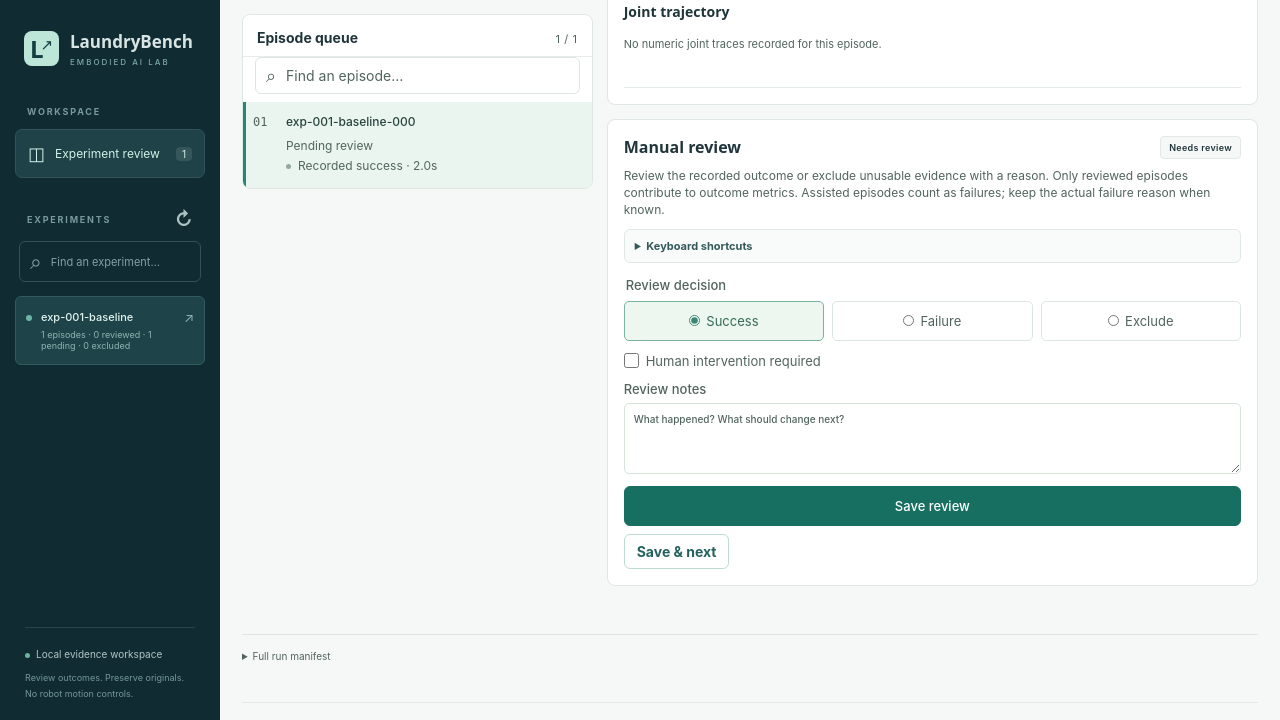
Test case: saves interventions using the backend failure contract
The image size is (1280, 720).
(page scrolled)
Check: the heading "Manual review" is shown, box [624,136,741,158]
Click the checkbox labelled "Human intervention required" at (631, 361), box [624,353,639,368]
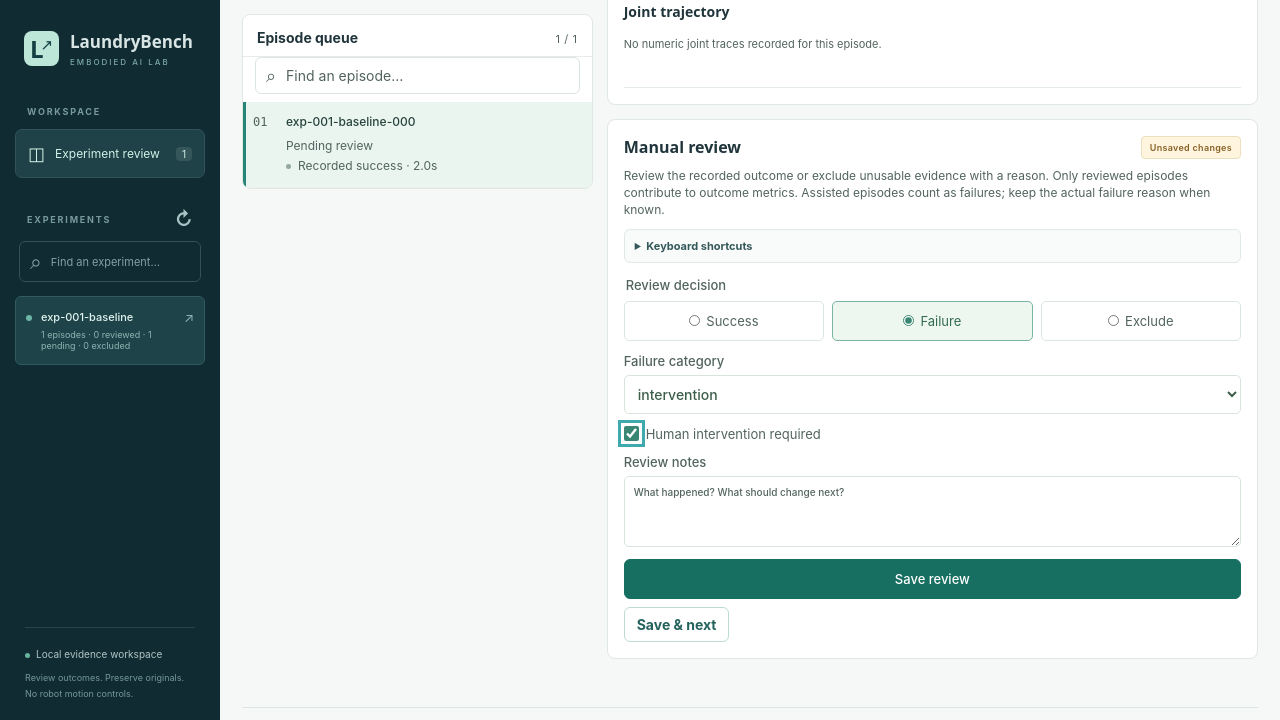
Check: the radio button labelled "Failure" is checked, box [903,315,914,326]
Check: the dropdown labelled "Failure category" shows "intervention", box [624,375,1241,414]
Click the button "Save review" at (932, 579), box [624,559,1241,599]
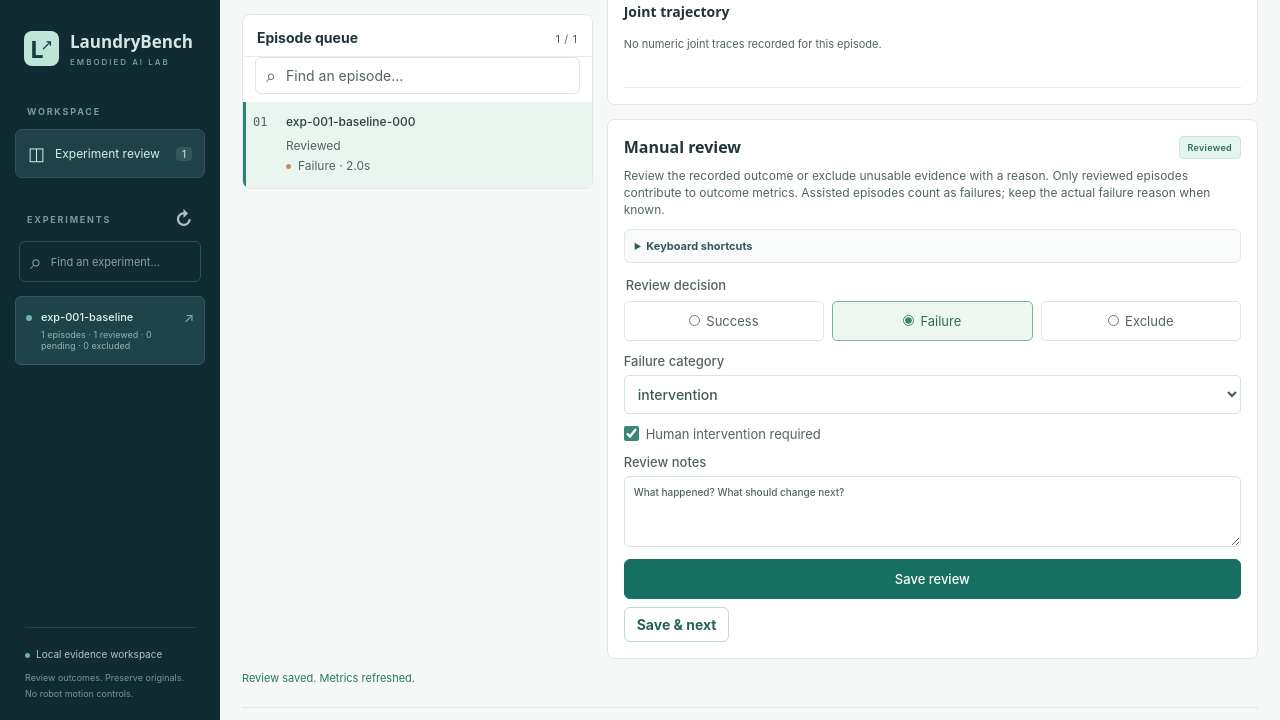
Check: the text "Review saved. Metrics refreshed." is shown, box [242,671,415,685]
